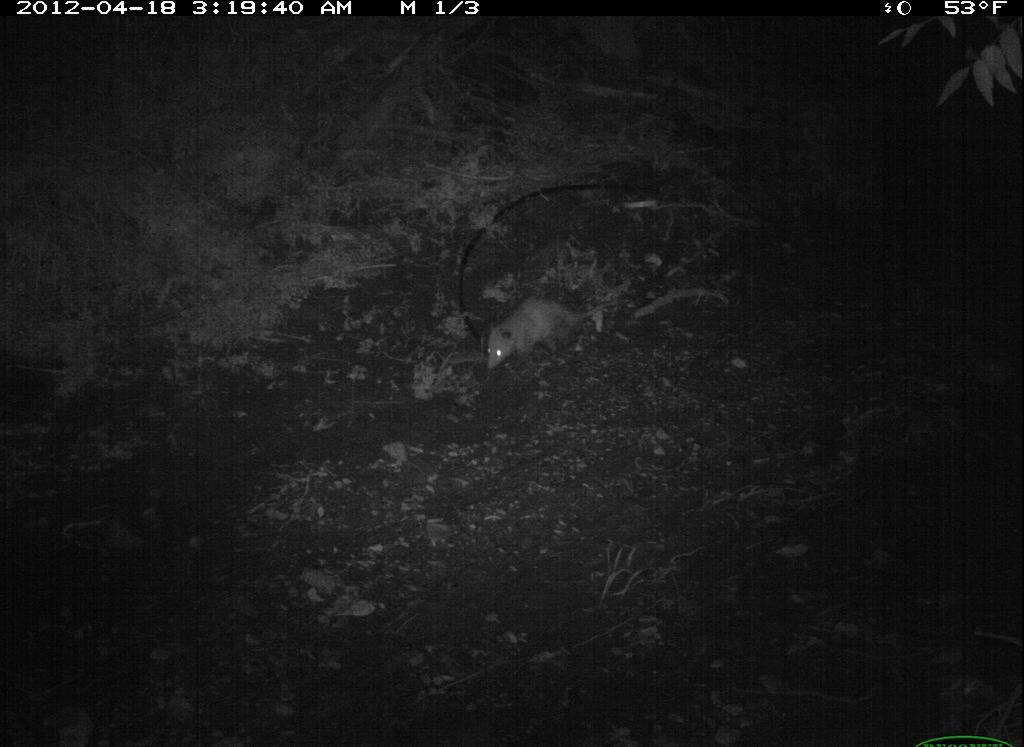opossum: (465, 285, 628, 378)
